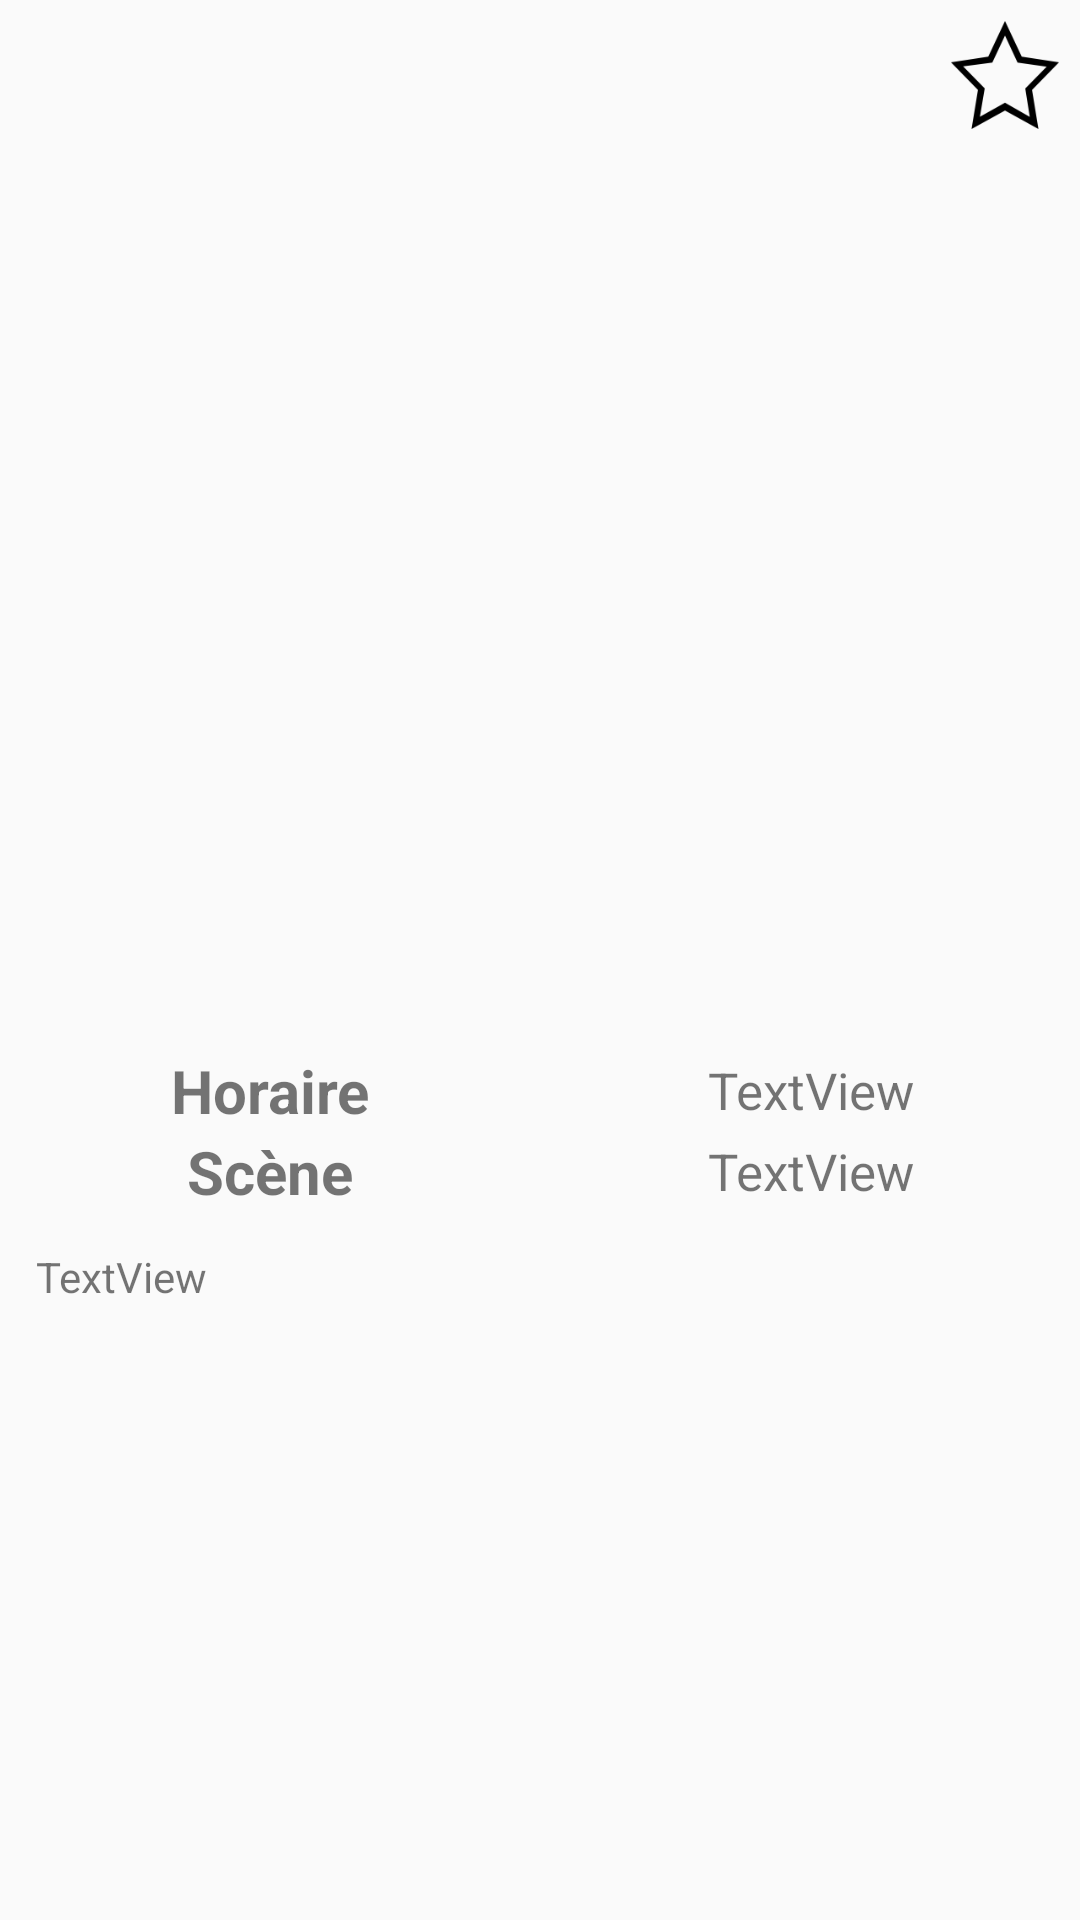

Icon bounding boxes for this 1080x1920 phone screenshot, format (x1, y1, x2, y2):
not favoris: (951, 21, 1059, 129)
